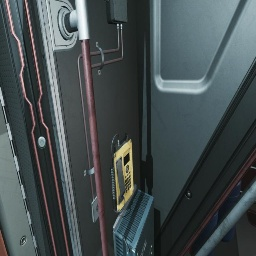EmergencyPhone ,: (110, 133, 134, 213)
